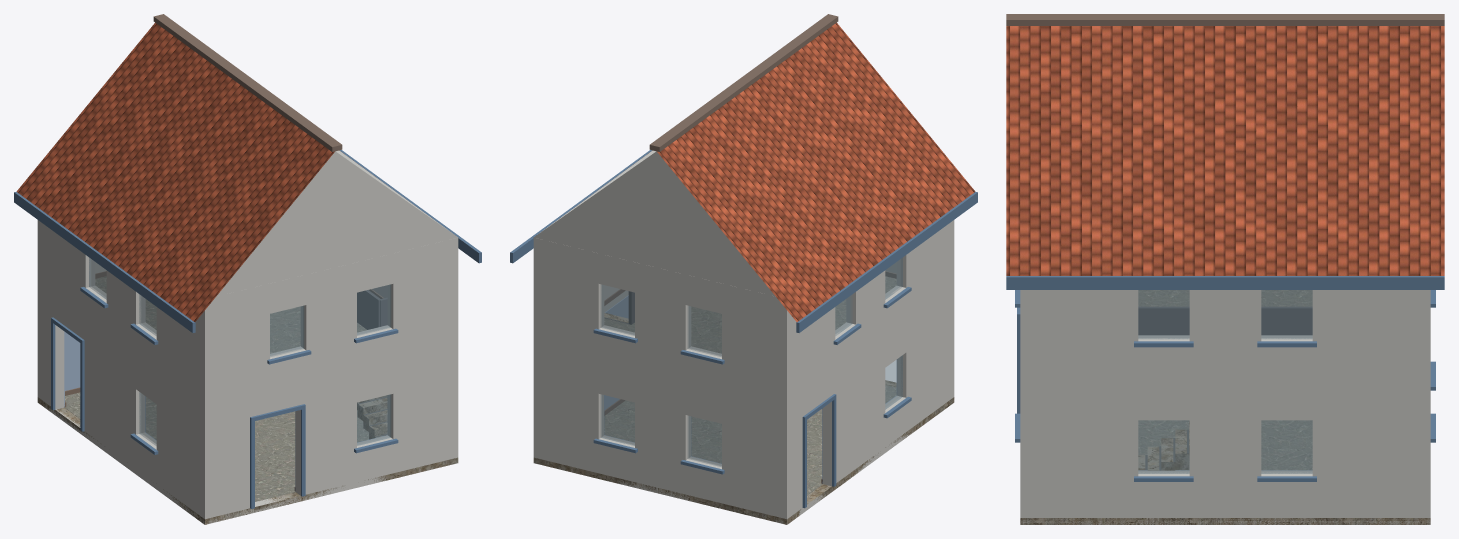
File: cottage-white.loc-v1.lod0.glb
3 renders of one model, left to right at view 1: azimuth 30°, elevation 25°; view 2: azimuth 150°, elevation 25°; view 3: azimuth 270°, elevation 25°, orthographic. The views are drawn at different scales.
Visible parts, largest first — view 1: cottage-white; view 2: cottage-white; view 3: cottage-white.
Boxes of the visible parts, box(x1,y1,x2,y2) form: cottage-white: box(14, 14, 481, 524); cottage-white: box(510, 14, 977, 524); cottage-white: box(1006, 14, 1444, 524).
Bounding box in the file's own units: 7.98 × 9.29 × 8.54.
Materials: 5 (3 with a texture image).
